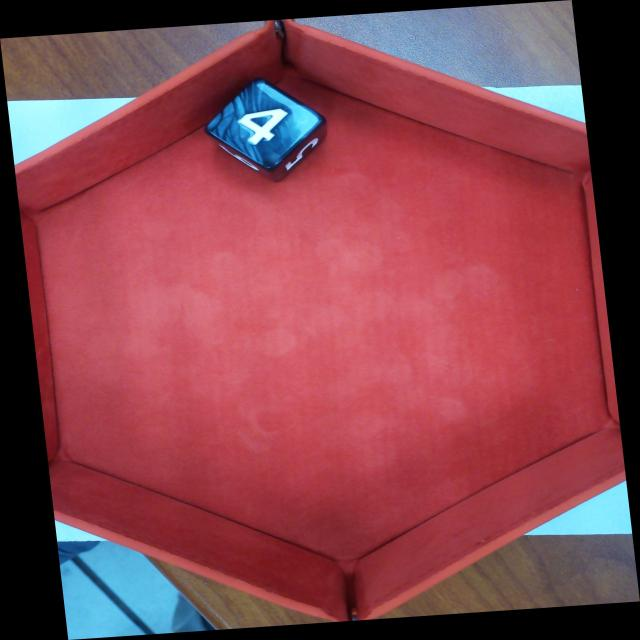dice: (205, 84, 319, 174)
